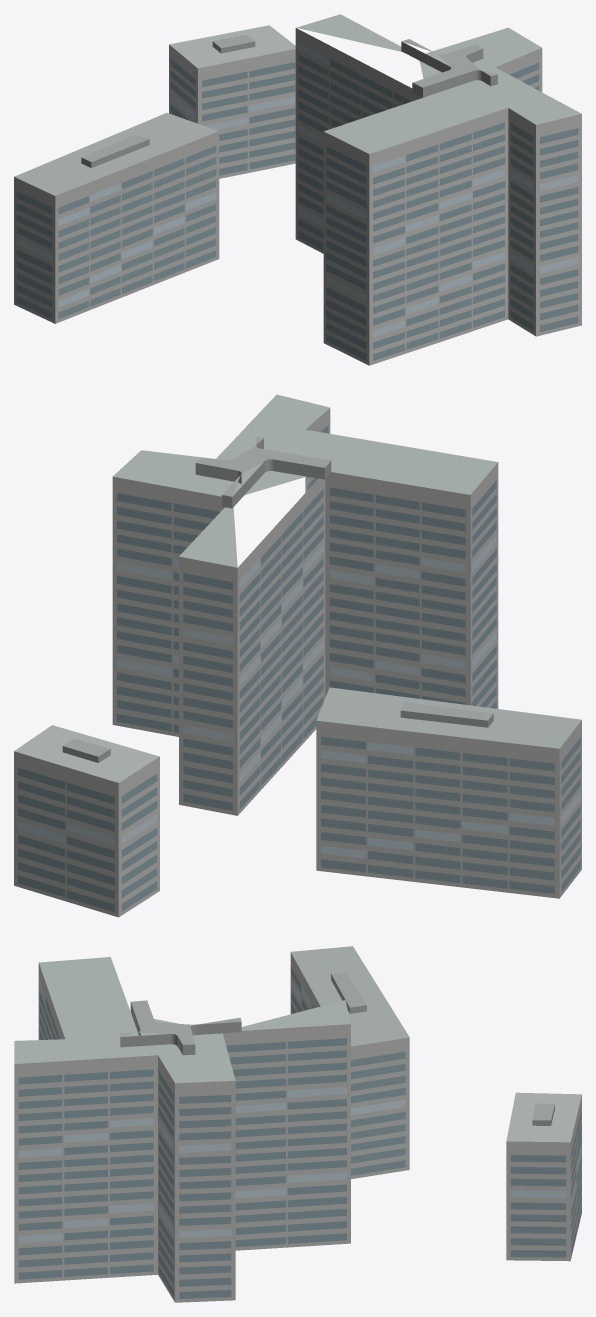
The model's file is apt-a13983801.glb.
The picture shows the model from 3 angles, top to bottom: view 1: azimuth 30°, elevation 25°; view 2: azimuth 150°, elevation 25°; view 3: azimuth 270°, elevation 25°; orthographic projection. The views are drawn at different scales.
Visible parts, largest first — view 1: apt-a13983801; view 2: apt-a13983801; view 3: apt-a13983801.
Part boxes in pixels (<box>): apt-a13983801: <box>14,14,581,365</box>; apt-a13983801: <box>14,394,581,917</box>; apt-a13983801: <box>14,946,581,1302</box>.
Bounding box in the file's own units: 100 × 48 × 108.
